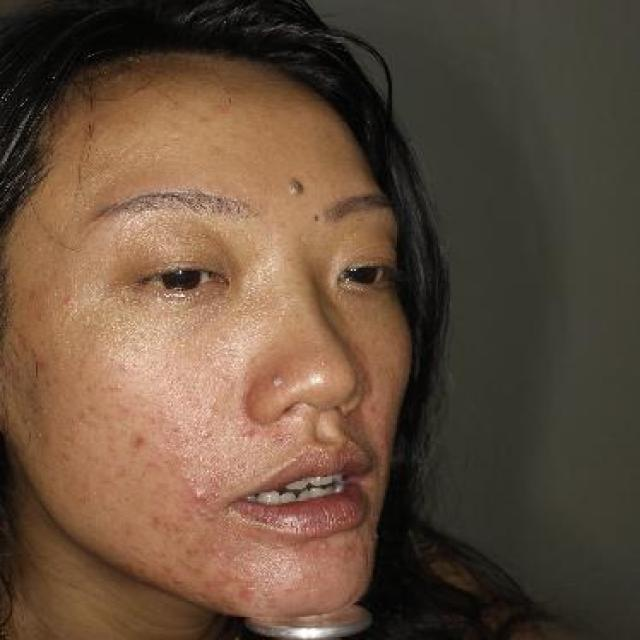nodules: (281, 166, 312, 205), (264, 365, 295, 394), (183, 486, 214, 506), (55, 289, 79, 308), (318, 540, 332, 554)
